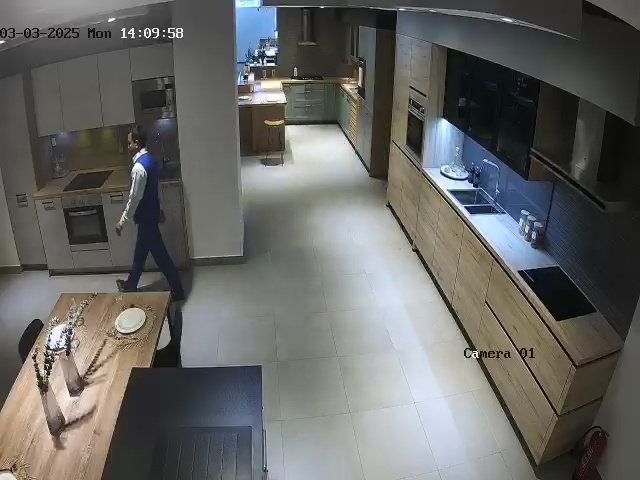employee: (114, 125, 186, 304)
